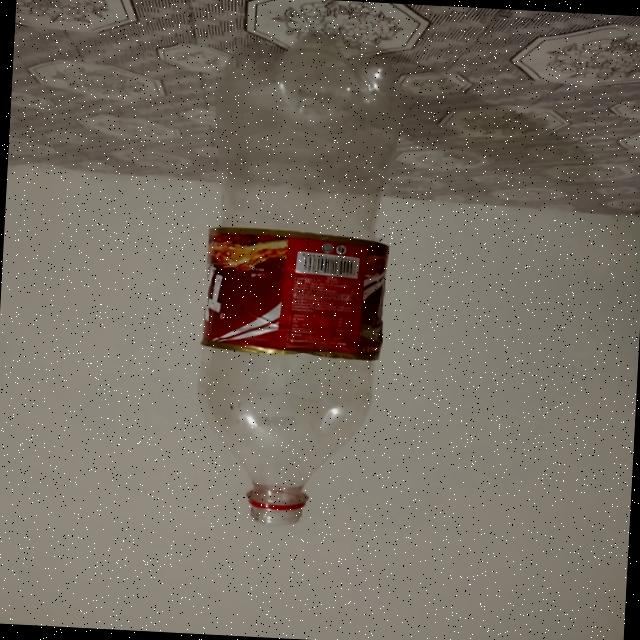bottle: (182, 36, 410, 536)
label: (196, 224, 402, 366)
